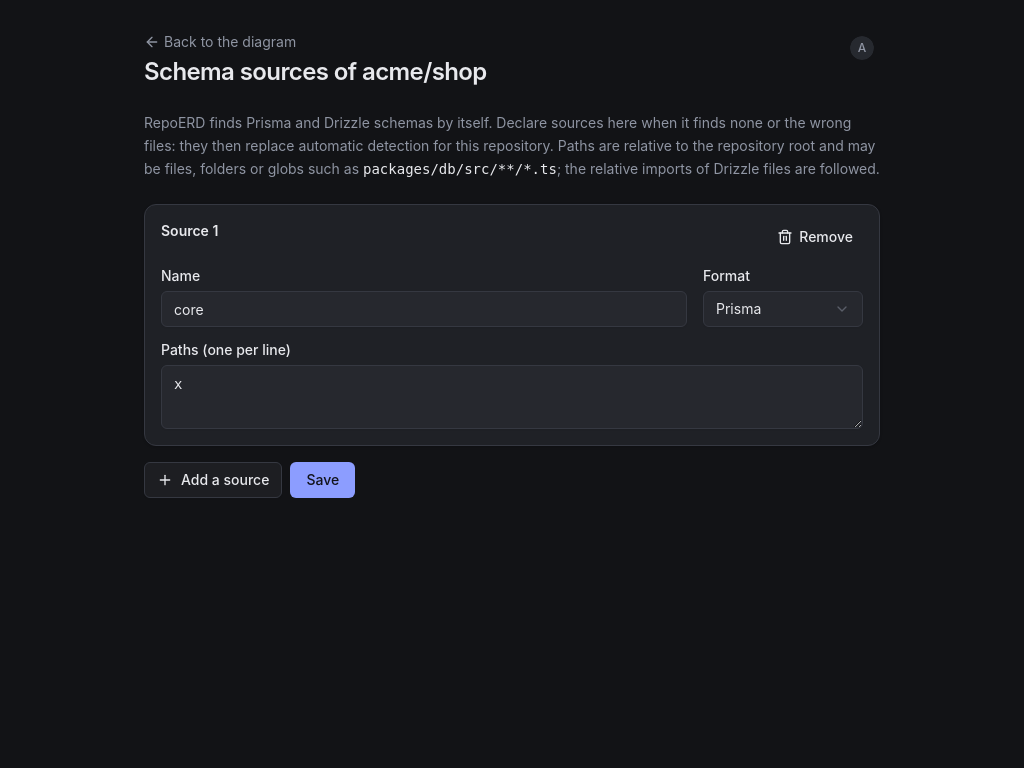
Scenario: RepoSettingsPage › says that automatic detection is back when the last source is removed and saved
The image size is (1024, 768).
Click the button with aria-label "Remove source 1".
click(815, 237)  # box [767,221,863,253]
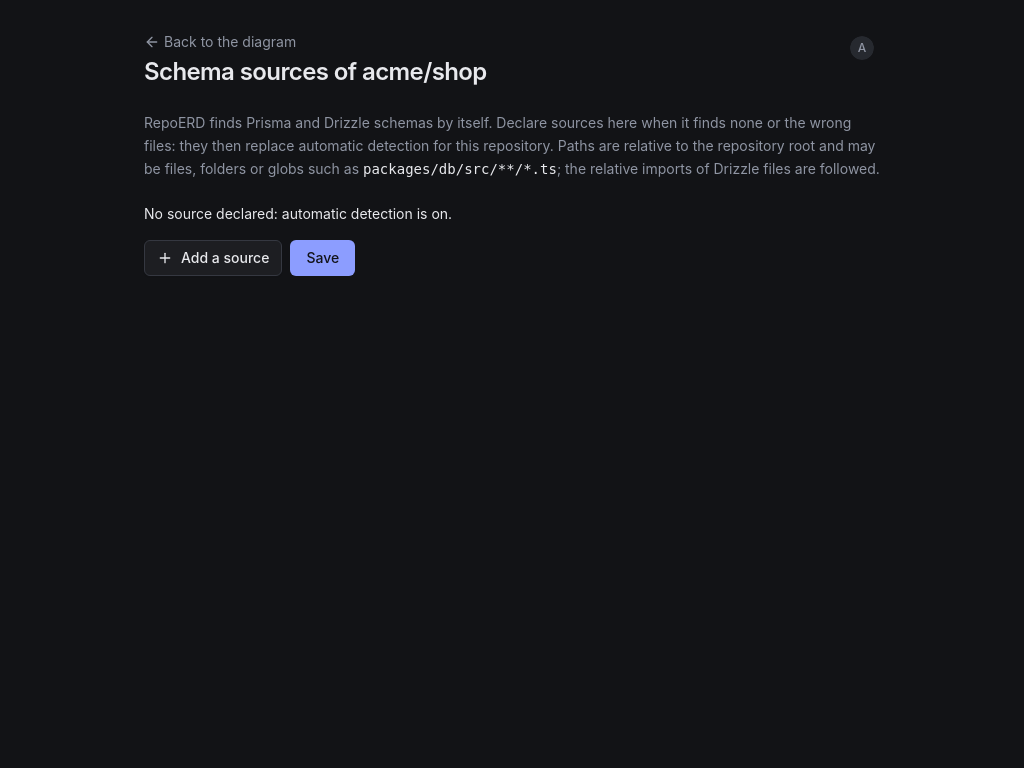
Click the button "Save".
click(323, 258)  # box [290,240,355,276]
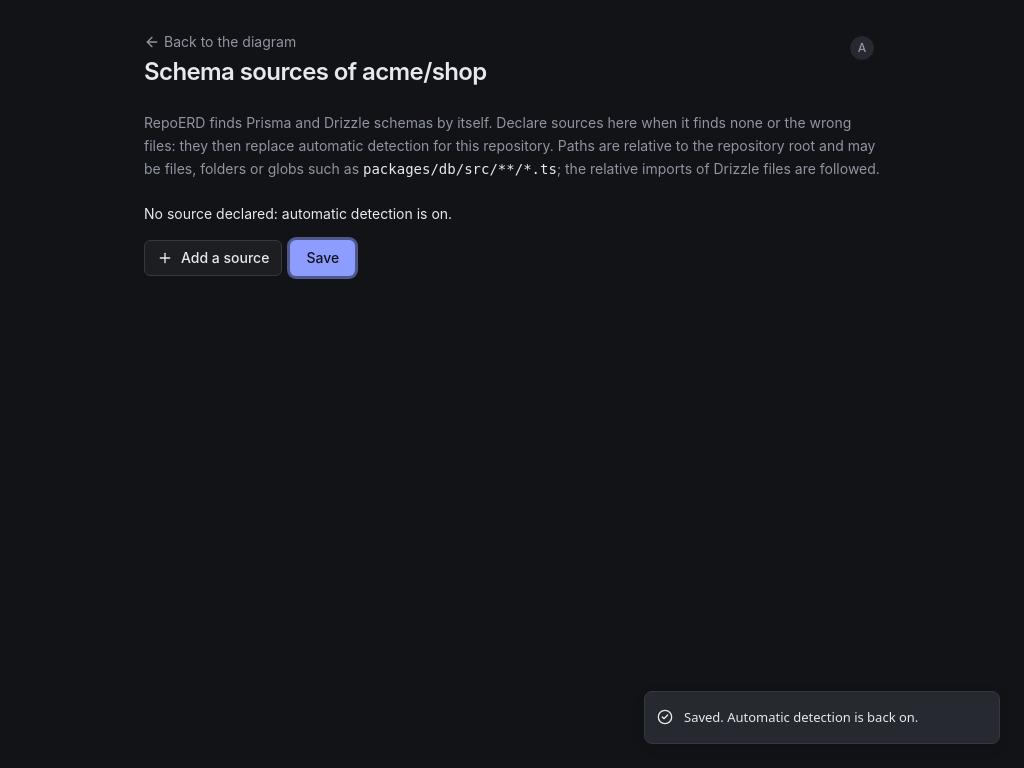
Result: the text "Saved. Automatic detection is back on." is shown at [684,708,918,727]
